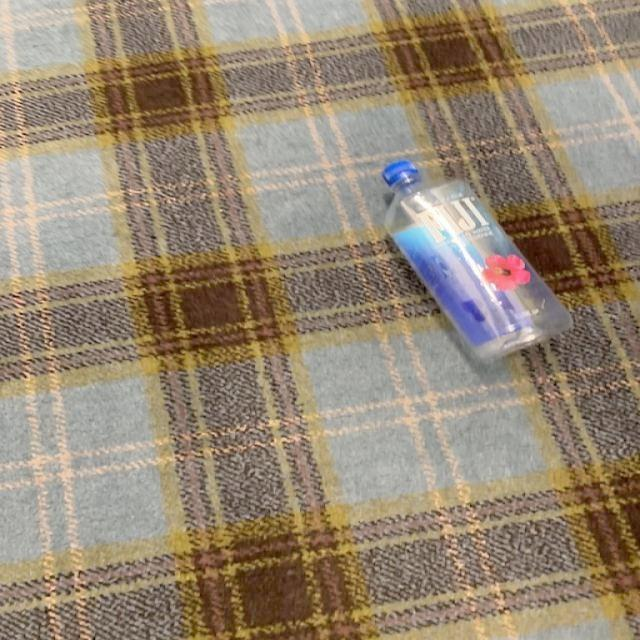bottle: (382, 159, 575, 368)
